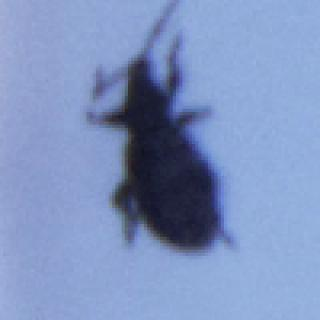bvw: (90, 0, 236, 256)
